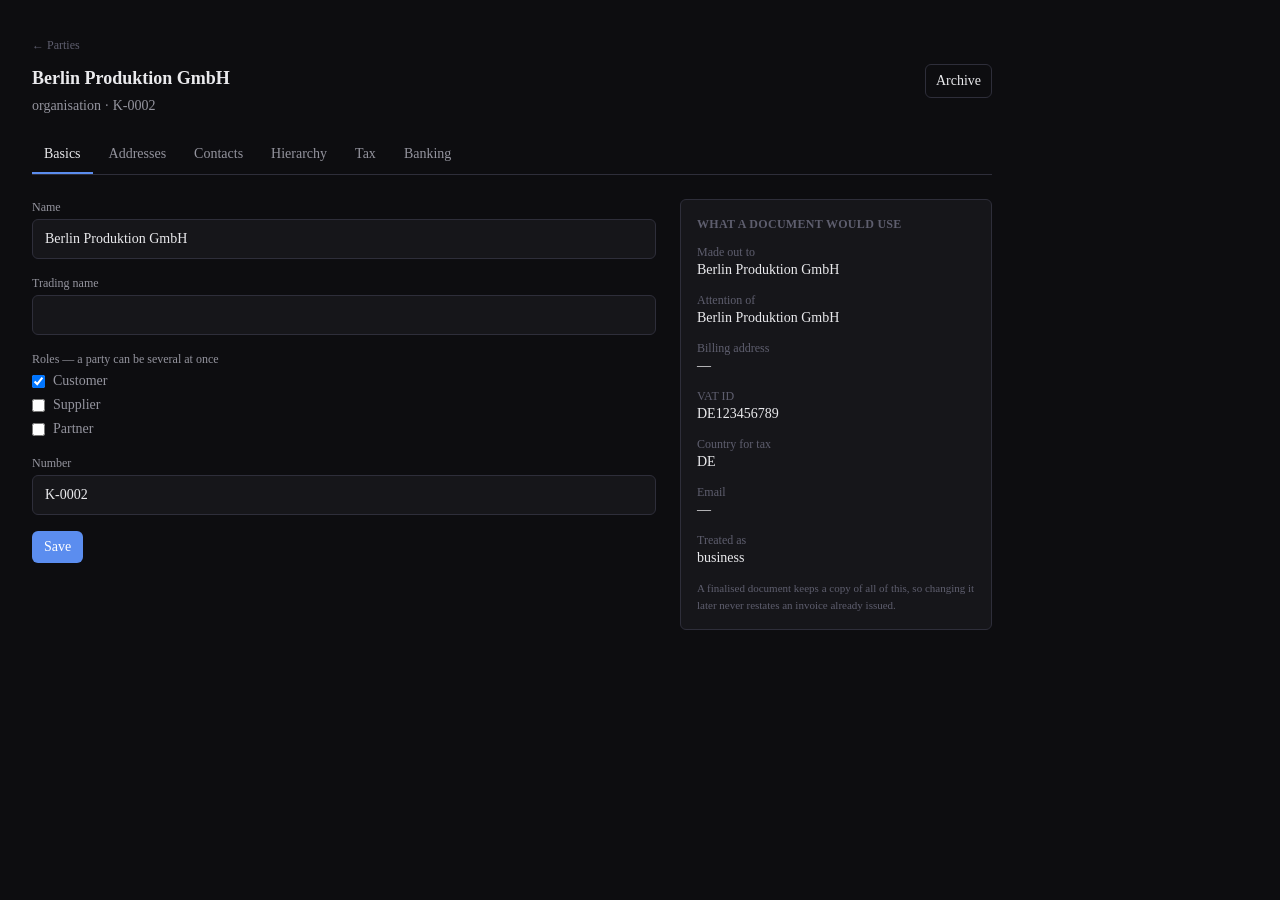
Test case: every chip state › shows valid as “Confirmed”
Expected: the element with test id "party-resolved-panel" is shown, [680,199,992,630]
Click the tab "Tax" at (366, 155), box [343,136,388,174]
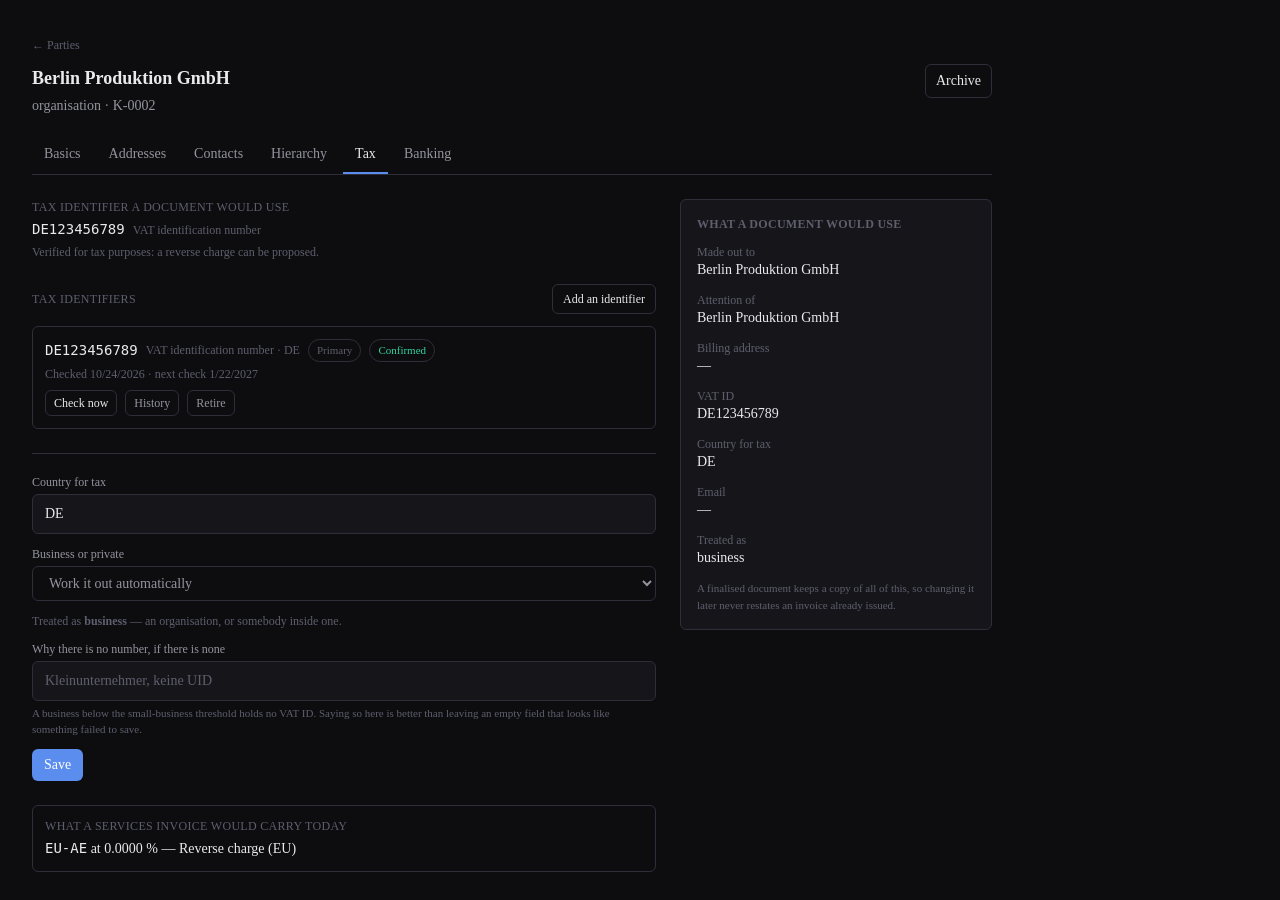
Result: the text with test id "tax-id-status-valid-t1" reads "Confirmed" at [378,344,426,356]
